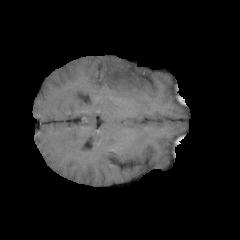glioma: (105, 61, 146, 96)
